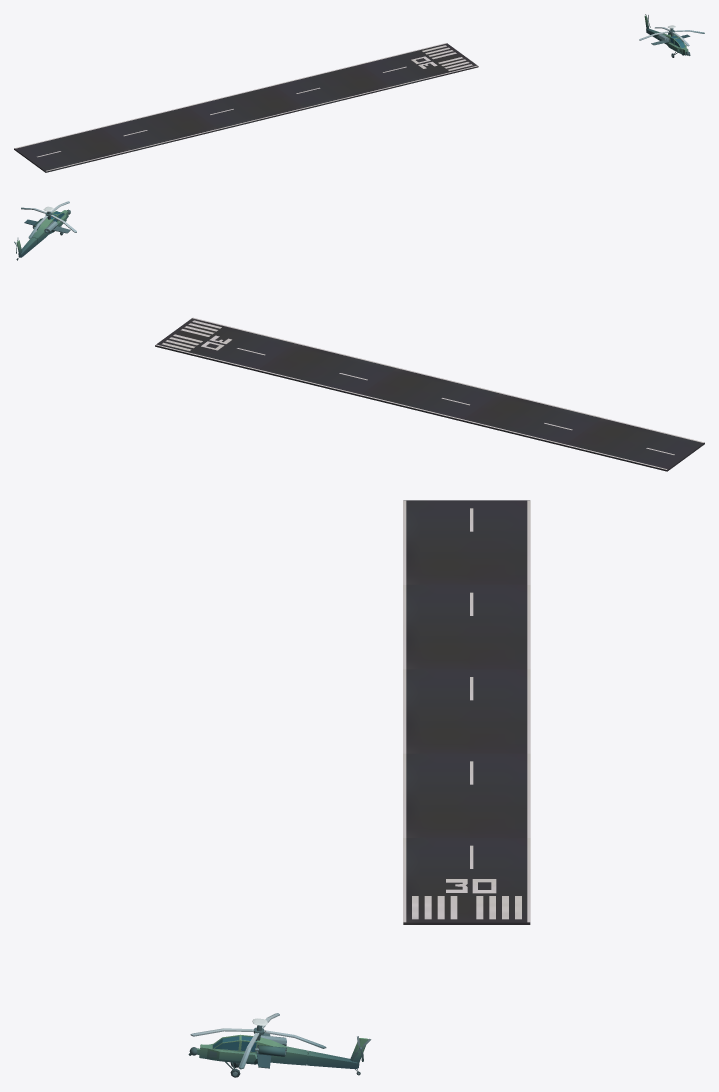
File: BaseCampTrack.fbx
The picture shows the model from 3 angles, top to bottom: view 1: azimuth 30°, elevation 25°; view 2: azimuth 150°, elevation 25°; view 3: azimuth 270°, elevation 25°; orthographic projection. The views are drawn at different scales.
Parts seen in each view (by area): view 1: Track, TrackSides, Helicopter, TrackStripes; view 2: Track, TrackSides, Helicopter, TrackStripes; view 3: Track, Helicopter, TrackSides, TrackStripes.
Part boxes in pixels (bbox=[...]): Track: bbox=[14, 43, 478, 172]; TrackSides: bbox=[15, 43, 477, 171]; Helicopter: bbox=[639, 14, 704, 57]; TrackStripes: bbox=[411, 45, 472, 70]; Track: bbox=[155, 318, 704, 471]; TrackSides: bbox=[155, 317, 703, 469]; Helicopter: bbox=[14, 201, 76, 260]; TrackStripes: bbox=[162, 320, 231, 350]; Track: bbox=[403, 500, 530, 924]; Helicopter: bbox=[188, 1013, 371, 1077]; TrackSides: bbox=[403, 500, 530, 922]; TrackStripes: bbox=[412, 879, 521, 919].
Size of the model in its own units: 65.1 by 2.9 by 15.59.
